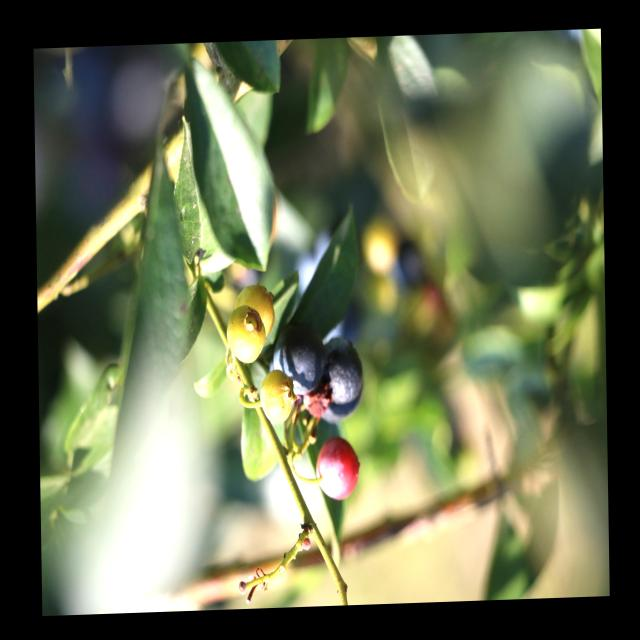blueberry: (297, 326, 369, 432), (268, 320, 331, 406)
blueberry-halfripe: (316, 436, 362, 502)
blueberry-unripe: (228, 282, 278, 340), (221, 307, 267, 368), (258, 369, 295, 427)
